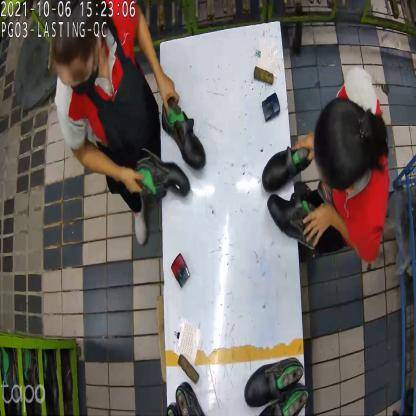shoes: (127, 96, 206, 198), (261, 141, 318, 254)
stamp: (260, 91, 280, 125), (173, 251, 190, 285)
